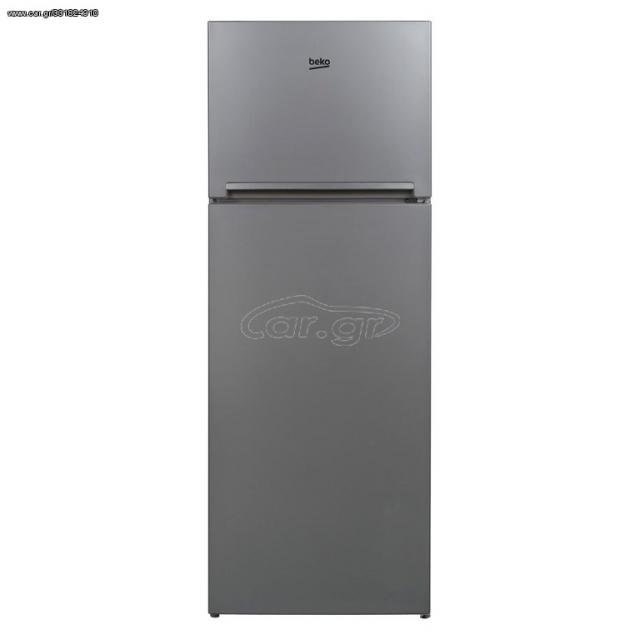refrigerator: (206, 18, 431, 620)
